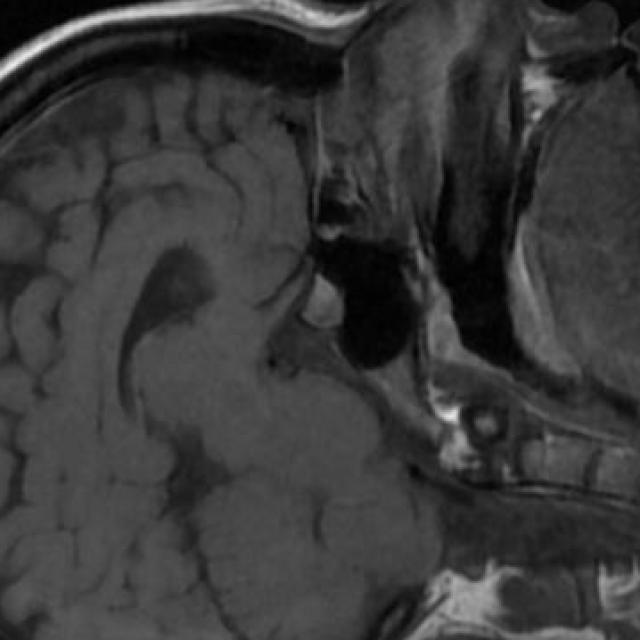pituitary: (299, 275, 344, 330)
